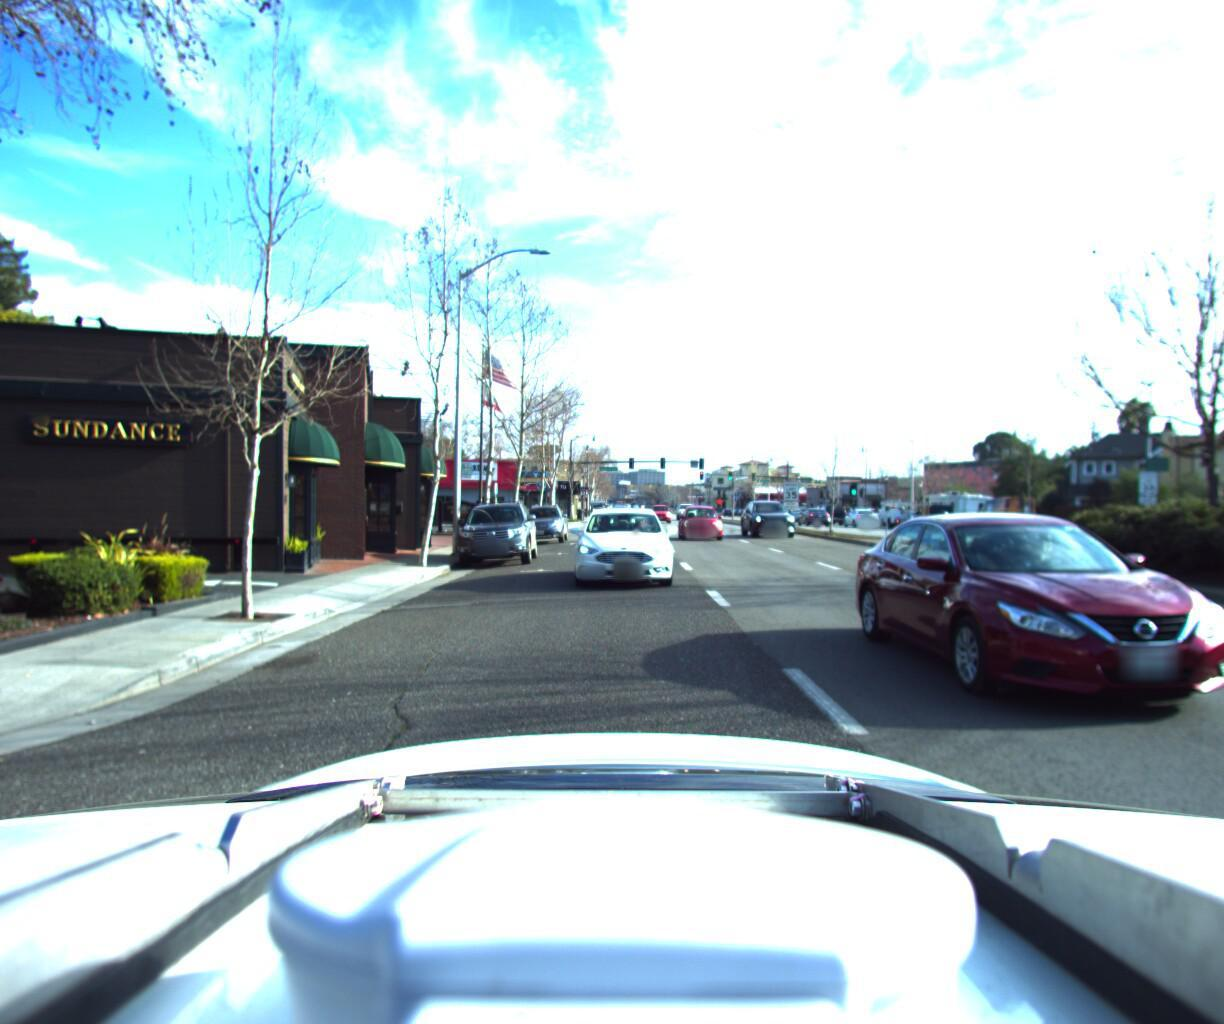car: (867, 496, 1224, 810), (567, 496, 676, 589), (454, 492, 539, 570), (971, 488, 1041, 531), (514, 494, 570, 543), (740, 491, 802, 533), (677, 498, 729, 538), (869, 491, 927, 522), (907, 496, 960, 526), (808, 494, 849, 519), (839, 501, 881, 524), (793, 498, 833, 520), (645, 495, 671, 516), (674, 494, 696, 513)
other_vehicle: (915, 482, 997, 528)
